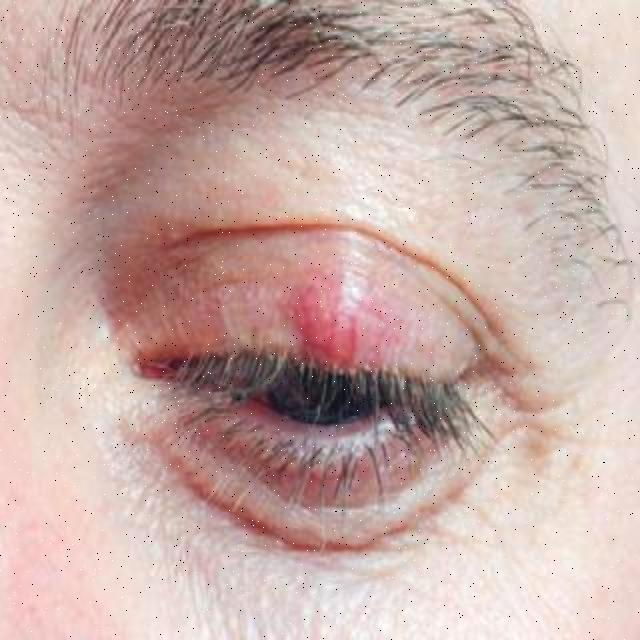Stye: (234, 242, 482, 412)
